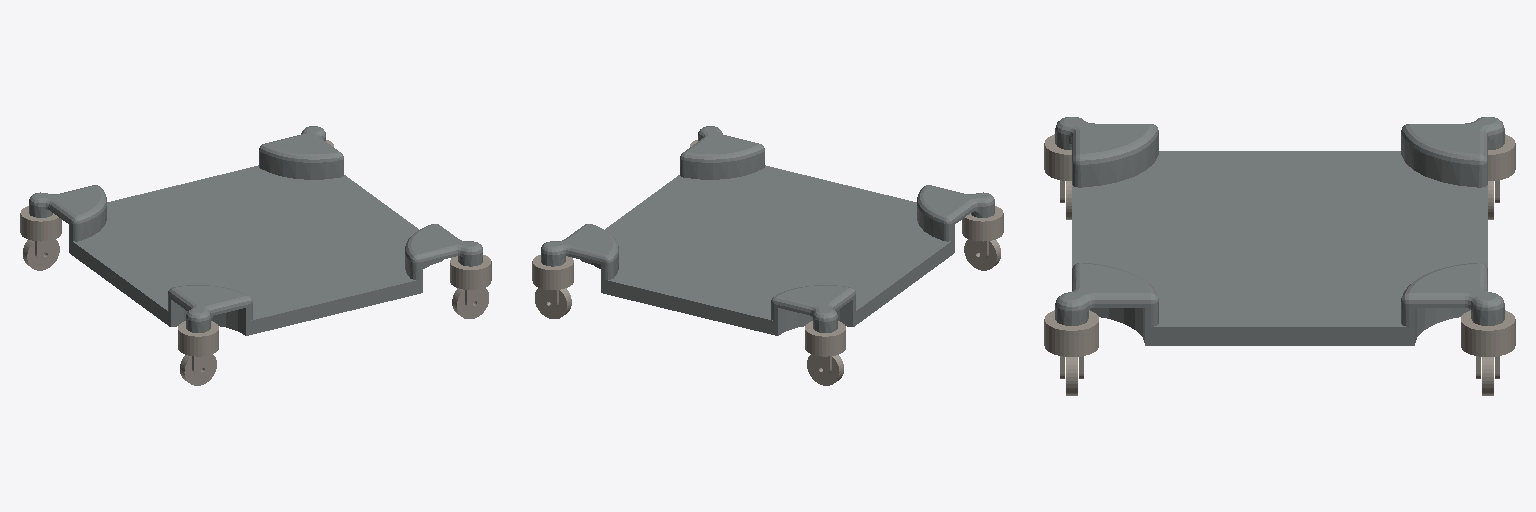
robot.urdf — red-duo:
<?xml version="1.0" encoding="utf-8"?>
<!-- This URDF was automatically created by SolidWorks to URDF Exporter! Originally created by [author] ([email redacted]) 
     Commit Version: 1.6.0-4-g7f85cfe  Build Version: 1.6.7995.38578
     For more information, please see http://wiki.ros.org/sw_urdf_exporter -->
<robot
  name="red-duo">
  <link
    name="base_link">
    <inertial>
      <origin
        xyz="-3.14265529897627E-05 -3.14360193817975E-05 -0.00747198560551371"
        rpy="0 0 0" />
      <mass
        value="500.7848347872755" />
      <inertia
        ixx="1.10813954791041"
        ixy="-0.000376899769965095"
        ixz="4.81998810237274E-05"
        iyy="1.10813948971712"
        iyz="4.82272878890223E-05"
        izz="2.19353356930222" />
    </inertial>
    <visual>
      <origin
        xyz="0 0 0"
        rpy="0 0 0" />
      <geometry>
        <mesh
          filename="meshes/base_link.STL" />
      </geometry>
      <material
        name="">
        <color
          rgba="0.529411764705882 0.549019607843137 0.549019607843137 1" />
      </material>
    </visual>
    <collision>
      <origin
        xyz="0 0 0"
        rpy="0 0 0" />
      <geometry>
        <mesh
          filename="meshes/base_link.STL" />
      </geometry>
    </collision>
  </link>
  <link
    name="left1_duo_link">
    <inertial>
      <origin
        xyz="0 0 -0.021664"
        rpy="0 0 0" />
      <mass
        value="0.98734" />
      <inertia
        ixx="0.00048811"
        ixy="7.806E-22"
        ixz="-2.3478E-20"
        iyy="0.00048294"
        iyz="7.3366E-21"
        izz="0.00050034" />
    </inertial>
    <visual>
      <origin
        xyz="0 0 0"
        rpy="0 0 0" />
      <geometry>
        <mesh
          filename="meshes/left1_duo_link.STL" />
      </geometry>
      <material
        name="">
        <color
          rgba="0.64706 0.61961 0.58824 1" />
      </material>
    </visual>
    <collision>
      <origin
        xyz="0 0 0"
        rpy="0 0 0" />
      <geometry>
        <mesh
          filename="meshes/left1_duo_link.STL" />
      </geometry>
    </collision>
  </link>
  <joint
    name="left1_duo_joint"
    type="continuous">
    <origin
      xyz="0.25 0.25 0.01"
      rpy="0 0 0" />
    <parent
      link="base_link" />
    <child
      link="left1_duo_link" />
    <axis
      xyz="0 0 1" />
  </joint>
  <link
    name="left1_wheel_link">
    <inertial>
      <origin
        xyz="0 -0.00750000000000001 -6.93889390390723E-18"
        rpy="0 0 0" />
      <mass
        value="0.301003846122072" />
      <inertia
        ixx="7.52509615305181E-05"
        ixy="2.4766950762574E-23"
        ixz="-3.32761674174298E-21"
        iyy="0.000139214278831459"
        iyz="-3.44071143658477E-38"
        izz="7.52509615305181E-05" />
    </inertial>
    <visual>
      <origin
        xyz="0 0 0"
        rpy="0 0 0" />
      <geometry>
        <mesh
          filename="meshes/left1_wheel_link.STL" />
      </geometry>
      <material
        name="">
        <color
          rgba="0.647058823529412 0.619607843137255 0.588235294117647 1" />
      </material>
    </visual>
    <collision>
      <origin
        xyz="0 0 0"
        rpy="0 0 0" />
      <geometry>
        <mesh
          filename="meshes/left1_wheel_link.STL" />
      </geometry>
    </collision>
  </link>
  <joint
    name="left1_wheel_joint"
    type="continuous">
    <origin
      xyz="0 0.00750000000000001 -0.068"
      rpy="0 0 0" />
    <parent
      link="left1_duo_link" />
    <child
      link="left1_wheel_link" />
    <axis
      xyz="0 1 0" />
  </joint>
  <link
    name="left2_duo_link">
    <inertial>
      <origin
        xyz="5.55111512312578E-17 0 -0.0216636085282422"
        rpy="0 0 0" />
      <mass
        value="0.987341700597558" />
      <inertia
        ixx="0.000488110116737672"
        ixy="-3.60986694113935E-22"
        ixz="-2.25650656698762E-23"
        iyy="0.000482944054230364"
        iyz="-9.15154398088095E-21"
        izz="0.000500343873334965" />
    </inertial>
    <visual>
      <origin
        xyz="0 0 0"
        rpy="0 0 0" />
      <geometry>
        <mesh
          filename="meshes/left2_duo_link.STL" />
      </geometry>
      <material
        name="">
        <color
          rgba="0.647058823529412 0.619607843137255 0.588235294117647 1" />
      </material>
    </visual>
    <collision>
      <origin
        xyz="0 0 0"
        rpy="0 0 0" />
      <geometry>
        <mesh
          filename="meshes/left2_duo_link.STL" />
      </geometry>
    </collision>
  </link>
  <joint
    name="left2_duo_joint"
    type="continuous">
    <origin
      xyz="-0.25 0.25 0.01"
      rpy="0 0 0" />
    <parent
      link="base_link" />
    <child
      link="left2_duo_link" />
    <axis
      xyz="0 0 1" />
  </joint>
  <link
    name="left2_wheel_link">
    <inertial>
      <origin
        xyz="5.55111512312578E-17 -0.00750000000000001 0"
        rpy="0 0 0" />
      <mass
        value="0.301003846122072" />
      <inertia
        ixx="7.52509615305181E-05"
        ixy="8.03156831872044E-22"
        ixz="-2.58213152378951E-21"
        iyy="0.000139214278831459"
        iyz="-3.99749849570389E-39"
        izz="7.52509615305182E-05" />
    </inertial>
    <visual>
      <origin
        xyz="0 0 0"
        rpy="0 0 0" />
      <geometry>
        <mesh
          filename="meshes/left2_wheel_link.STL" />
      </geometry>
      <material
        name="">
        <color
          rgba="0.647058823529412 0.619607843137255 0.588235294117647 1" />
      </material>
    </visual>
    <collision>
      <origin
        xyz="0 0 0"
        rpy="0 0 0" />
      <geometry>
        <mesh
          filename="meshes/left2_wheel_link.STL" />
      </geometry>
    </collision>
  </link>
  <joint
    name="left2_wheel_joint"
    type="continuous">
    <origin
      xyz="0 0.00750000000000001 -0.068"
      rpy="0 0 0" />
    <parent
      link="left2_duo_link" />
    <child
      link="left2_wheel_link" />
    <axis
      xyz="0 1 0" />
  </joint>
  <link
    name="right1_duo_link">
    <inertial>
      <origin
        xyz="-2.77555756156289E-17 0 -0.0216636085282422"
        rpy="0 0 0" />
      <mass
        value="0.987341700597558" />
      <inertia
        ixx="0.000488110116737672"
        ixy="-9.09685387265232E-22"
        ixz="2.25650656698761E-23"
        iyy="0.000482944054230364"
        iyz="3.06014308422724E-20"
        izz="0.000500343873334965" />
    </inertial>
    <visual>
      <origin
        xyz="0 0 0"
        rpy="0 0 0" />
      <geometry>
        <mesh
          filename="meshes/right1_duo_link.STL" />
      </geometry>
      <material
        name="">
        <color
          rgba="0.647058823529412 0.619607843137255 0.588235294117647 1" />
      </material>
    </visual>
    <collision>
      <origin
        xyz="0 0 0"
        rpy="0 0 0" />
      <geometry>
        <mesh
          filename="meshes/right1_duo_link.STL" />
      </geometry>
    </collision>
  </link>
  <joint
    name="right1_duo_joint"
    type="continuous">
    <origin
      xyz="0.25 -0.25 0.01"
      rpy="0 0 0" />
    <parent
      link="base_link" />
    <child
      link="right1_duo_link" />
    <axis
      xyz="0 0 1" />
  </joint>
  <link
    name="right1_wheel_link">
    <inertial>
      <origin
        xyz="5.55111512312578E-17 0.0075 -6.93889390390723E-18"
        rpy="0 0 0" />
      <mass
        value="0.301003846122072" />
      <inertia
        ixx="7.5250961530518E-05"
        ixy="-1.50960461790928E-22"
        ixz="-3.37538157535652E-21"
        iyy="0.000139214278831458"
        iyz="-1.96240835243646E-38"
        izz="7.5250961530518E-05" />
    </inertial>
    <visual>
      <origin
        xyz="0 0 0"
        rpy="0 0 0" />
      <geometry>
        <mesh
          filename="meshes/right1_wheel_link.STL" />
      </geometry>
      <material
        name="">
        <color
          rgba="0.647058823529412 0.619607843137255 0.588235294117647 1" />
      </material>
    </visual>
    <collision>
      <origin
        xyz="0 0 0"
        rpy="0 0 0" />
      <geometry>
        <mesh
          filename="meshes/right1_wheel_link.STL" />
      </geometry>
    </collision>
  </link>
  <joint
    name="right1_wheel_joint"
    type="continuous">
    <origin
      xyz="0 -0.0075 -0.068"
      rpy="0 0 0" />
    <parent
      link="right1_duo_link" />
    <child
      link="right1_wheel_link" />
    <axis
      xyz="0 1 0" />
  </joint>
  <link
    name="right2_duo_link">
    <inertial>
      <origin
        xyz="5.5511E-17 0 -0.021664"
        rpy="0 0 0" />
      <mass
        value="0.98734" />
      <inertia
        ixx="0.00048811"
        ixy="9.7299E-22"
        ixz="2.3478E-20"
        iyy="0.00048294"
        iyz="-1.6535E-20"
        izz="0.00050034" />
    </inertial>
    <visual>
      <origin
        xyz="0 0 0"
        rpy="0 0 0" />
      <geometry>
        <mesh
          filename="meshes/right2_duo_link.STL" />
      </geometry>
      <material
        name="">
        <color
          rgba="0.64706 0.61961 0.58824 1" />
      </material>
    </visual>
    <collision>
      <origin
        xyz="0 0 0"
        rpy="0 0 0" />
      <geometry>
        <mesh
          filename="meshes/right2_duo_link.STL" />
      </geometry>
    </collision>
  </link>
  <joint
    name="right2_duo_joint"
    type="continuous">
    <origin
      xyz="-0.25 -0.25 0.01"
      rpy="0 0 0" />
    <parent
      link="base_link" />
    <child
      link="right2_duo_link" />
    <axis
      xyz="0 0 1" />
  </joint>
  <link
    name="right2_wheel_link">
    <inertial>
      <origin
        xyz="0 0.0075 0"
        rpy="0 0 0" />
      <mass
        value="0.301003846122072" />
      <inertia
        ixx="7.5250961530518E-05"
        ixy="1.70774022400987E-21"
        ixz="-2.58154183448564E-21"
        iyy="0.000139214278831458"
        iyz="0"
        izz="7.5250961530518E-05" />
    </inertial>
    <visual>
      <origin
        xyz="0 0 0"
        rpy="0 0 0" />
      <geometry>
        <mesh
          filename="meshes/right2_wheel_link.STL" />
      </geometry>
      <material
        name="">
        <color
          rgba="0.647058823529412 0.619607843137255 0.588235294117647 1" />
      </material>
    </visual>
    <collision>
      <origin
        xyz="0 0 0"
        rpy="0 0 0" />
      <geometry>
        <mesh
          filename="meshes/right2_wheel_link.STL" />
      </geometry>
    </collision>
  </link>
  <joint
    name="right2_wheel_joint"
    type="continuous">
    <origin
      xyz="0 -0.0075 -0.068"
      rpy="0 0 0" />
    <parent
      link="right2_duo_link" />
    <child
      link="right2_wheel_link" />
    <axis
      xyz="0 1 0" />
  </joint>
</robot>

--- What the picture shows (computed from the rendered views, not written in the file) ---
Views: 3 orthographic renders of the robot side by side, from view 1: azimuth 30°, elevation 25°; view 2: azimuth 150°, elevation 25°; view 3: azimuth 270°, elevation 25°.
Robot: red-duo — 9 links, 8 joints (8 continuous); root link base_link; default pose: every joint at zero.
Links seen in each view (by area): view 1: base_link, right1_duo_link, right2_duo_link, left2_duo_link, right1_wheel_link, left2_wheel_link, right2_wheel_link; view 2: base_link, left1_duo_link, left2_duo_link, right2_duo_link, left1_wheel_link, right2_wheel_link, left2_wheel_link; view 3: base_link, left1_duo_link, right1_duo_link, left2_duo_link, right2_duo_link.
Link boxes in pixels (x1,y1,x2,y2): base_link: (29, 126, 482, 335); right1_duo_link: (450, 255, 491, 307); right2_duo_link: (178, 321, 218, 374); left2_duo_link: (20, 206, 61, 259); right1_wheel_link: (452, 288, 488, 318); left2_wheel_link: (23, 239, 59, 270); right2_wheel_link: (180, 354, 216, 385); base_link: (541, 126, 994, 335); left1_duo_link: (532, 255, 573, 307); left2_duo_link: (805, 321, 845, 374); right2_duo_link: (962, 206, 1003, 259); left1_wheel_link: (535, 288, 571, 318); right2_wheel_link: (964, 239, 1000, 270); left2_wheel_link: (807, 354, 843, 385); base_link: (1055, 117, 1504, 345); left1_duo_link: (1461, 310, 1515, 378); right1_duo_link: (1044, 310, 1098, 378); left2_duo_link: (1488, 134, 1515, 202); right2_duo_link: (1044, 134, 1071, 202).
Bounding box of the posed robot: 0.5657 × 0.566 × 0.1279 m (x, y, z).
Meshes: 9 distinct files referenced, 9 mesh visuals loaded (9 binary STL).